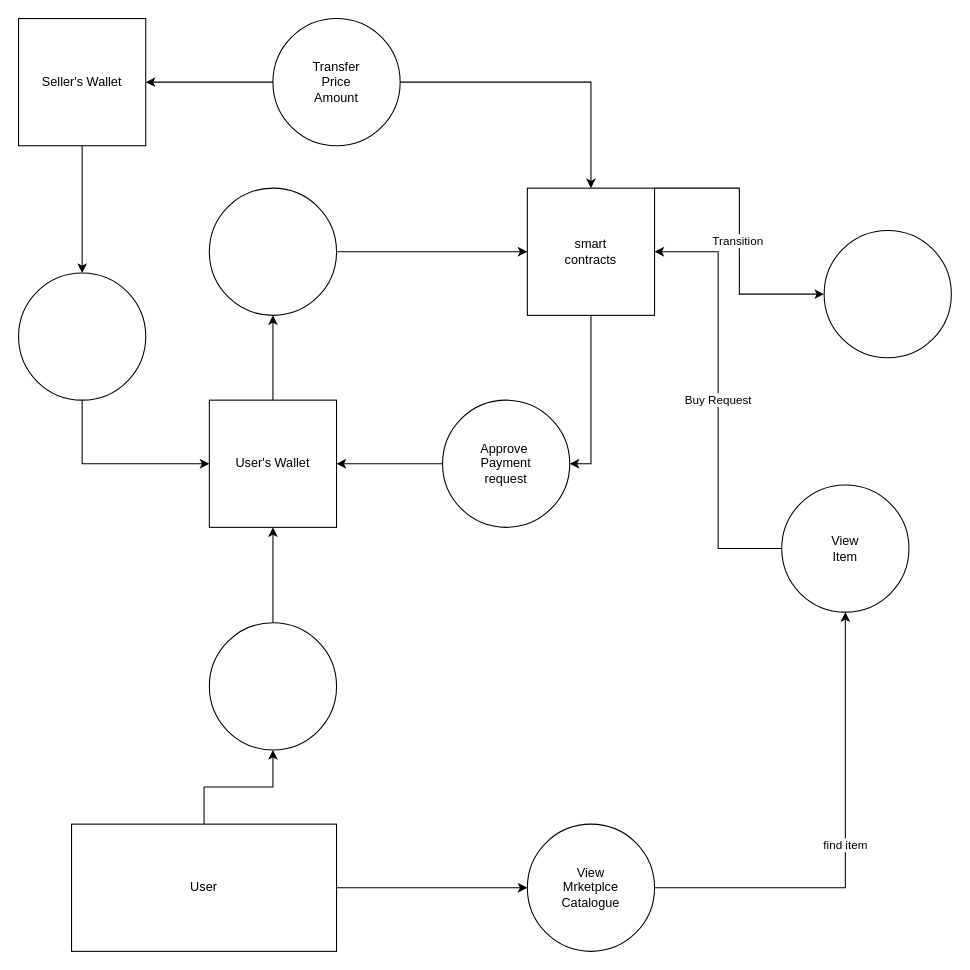
This 970x970 diagram has some shape labels left out. The shapes that lost their labels are listed below. From the top down, each one's box as (x1, y1, x2, y2) in pixels, then its label:
(208, 187, 337, 315): Send approval status
(823, 229, 951, 358): Transection management
(17, 272, 146, 400): Transfer NFT
(208, 622, 337, 750): Payment Approval
